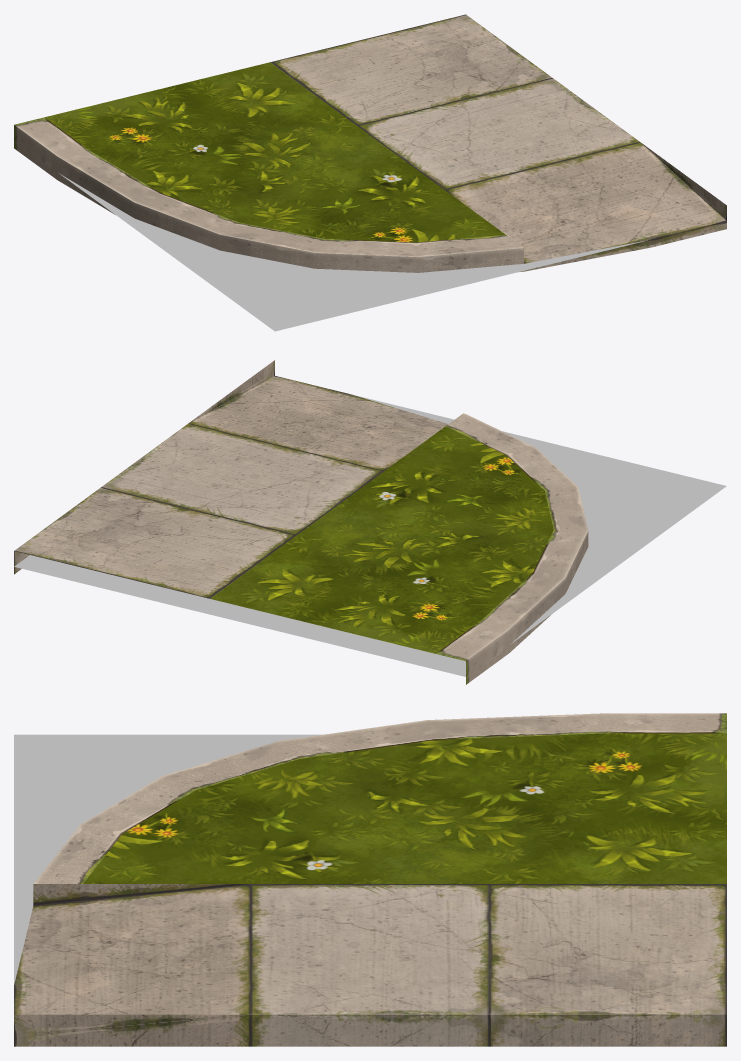
Rendered from sidewalk01_cornerCrossR.fbx.
3 renders of one model, top to bottom at view 1: azimuth 30°, elevation 25°; view 2: azimuth 150°, elevation 25°; view 3: azimuth 270°, elevation 25°, orthographic. The views are drawn at different scales.
Parts seen in each view (by area): view 1: sidewalk01_cornerCrossR; view 2: sidewalk01_cornerCrossR; view 3: sidewalk01_cornerCrossR.
Boxes of the visible parts, bbox=[...] form: sidewalk01_cornerCrossR: bbox=[14, 14, 726, 331]; sidewalk01_cornerCrossR: bbox=[14, 360, 726, 684]; sidewalk01_cornerCrossR: bbox=[14, 713, 726, 1046].
Bounding box in the file's own units: 300 × 15 × 300.
